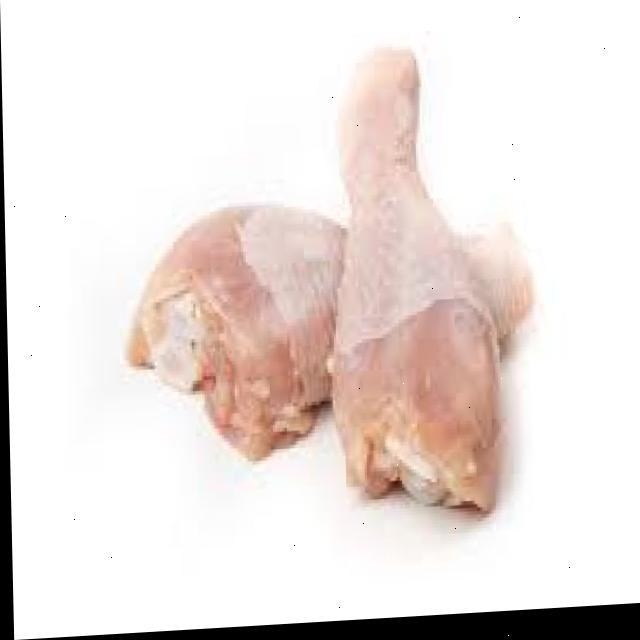leg: (136, 176, 538, 450), (330, 54, 503, 526)
